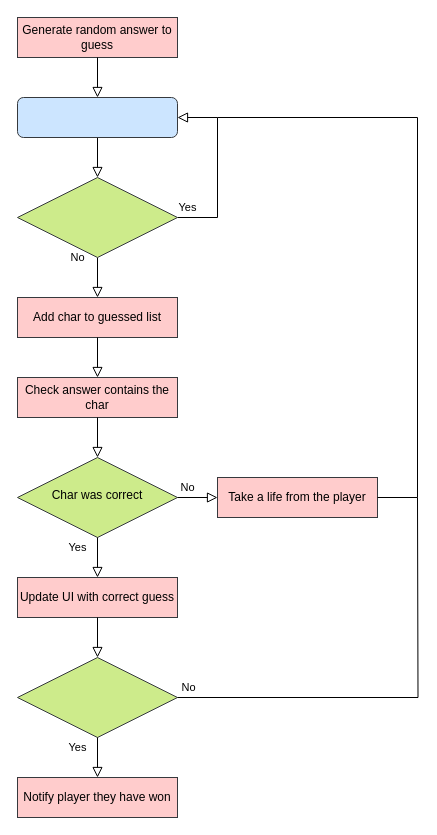
Some shapes in this 437 by 835 pixel diagram are drawn without their labels. Each missing label, with the centre of its shape:
"char already been guessed?" belongs at point (97, 217).
"Has player Won?" belongs at point (97, 697).
"Wait for input char" belongs at point (97, 117).
